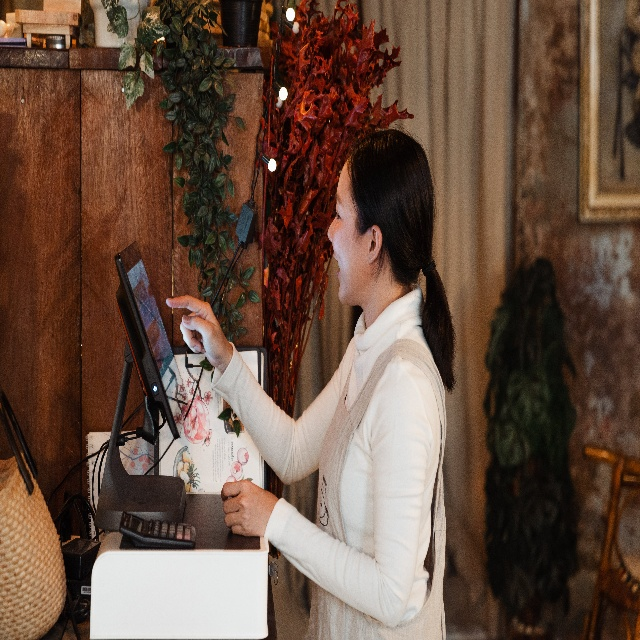Sin_guantes: (166, 295, 227, 369), (218, 482, 280, 540)
